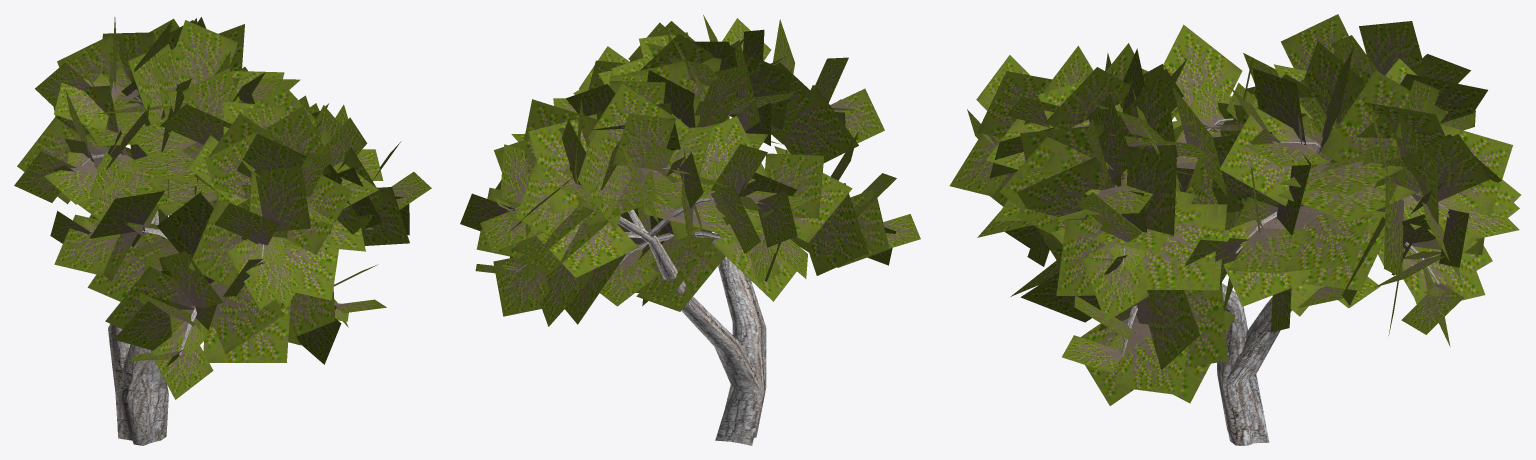
Rendered from tree-1.gltf.
The picture shows the model from 3 angles, left to right: view 1: azimuth 30°, elevation 25°; view 2: azimuth 150°, elevation 25°; view 3: azimuth 270°, elevation 25°; orthographic projection. The views are drawn at different scales.
Parts seen in each view (by area): view 1: tree.027; view 2: tree.027; view 3: tree.027.
Boxes of the visible parts, left/top/right/bottom form: tree.027: left=14, top=17, right=431, bottom=445; tree.027: left=460, top=15, right=920, bottom=445; tree.027: left=949, top=14, right=1520, bottom=445.
Size of the model in its own units: 9.22 by 10.21 by 11.97.
1 material, 1 textured.
